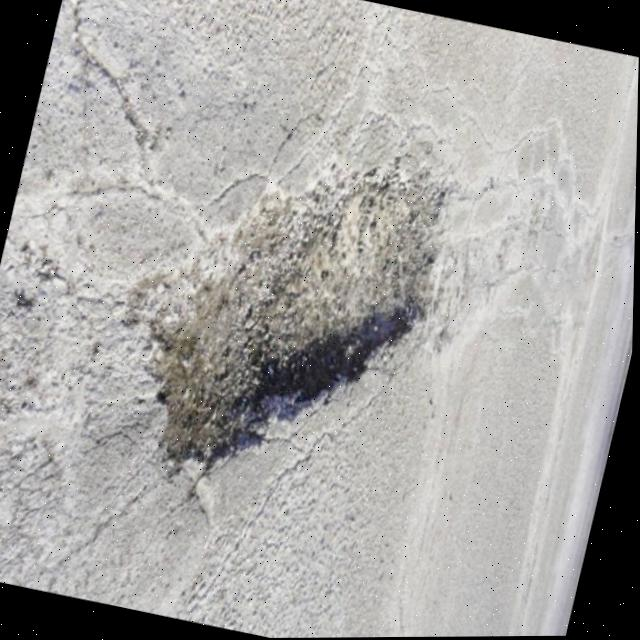Pothole: (91, 112, 464, 508)
